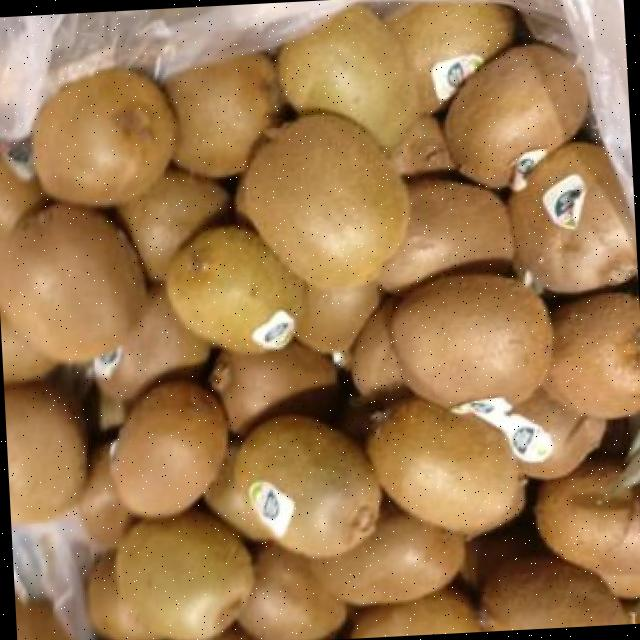kiwi: (98, 287, 227, 517), (238, 113, 409, 284), (0, 204, 142, 361), (367, 398, 524, 535), (391, 275, 551, 407), (237, 415, 380, 557), (445, 44, 587, 187), (279, 6, 419, 150), (508, 142, 638, 292), (35, 70, 176, 206), (115, 509, 254, 640), (165, 225, 303, 350), (310, 499, 462, 602), (377, 179, 512, 292), (450, 389, 606, 478), (388, 3, 515, 111), (165, 54, 274, 177), (118, 168, 227, 280), (534, 459, 640, 572), (209, 341, 335, 434), (547, 293, 640, 417), (3, 384, 85, 523), (480, 556, 626, 629), (240, 545, 345, 640), (350, 588, 480, 638), (349, 298, 410, 404), (86, 553, 160, 640), (204, 444, 269, 539), (294, 283, 379, 352), (78, 446, 130, 549), (390, 115, 456, 174), (0, 312, 53, 382), (0, 160, 43, 244)
